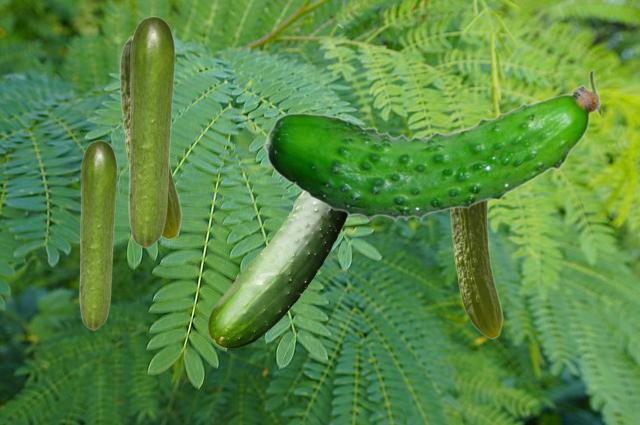cucumber: (262, 69, 599, 221), (208, 192, 347, 347), (119, 35, 181, 239), (128, 16, 174, 247), (449, 201, 502, 338), (79, 140, 116, 329)
